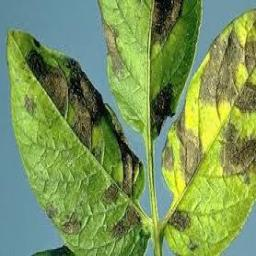Early_blight: (24, 47, 144, 201), (200, 29, 256, 113), (175, 109, 206, 186), (221, 122, 256, 176), (151, 0, 183, 47), (149, 81, 177, 134), (103, 20, 127, 81), (110, 203, 142, 238)
Leaf: (7, 26, 153, 256), (162, 9, 256, 256), (99, 0, 202, 142)
